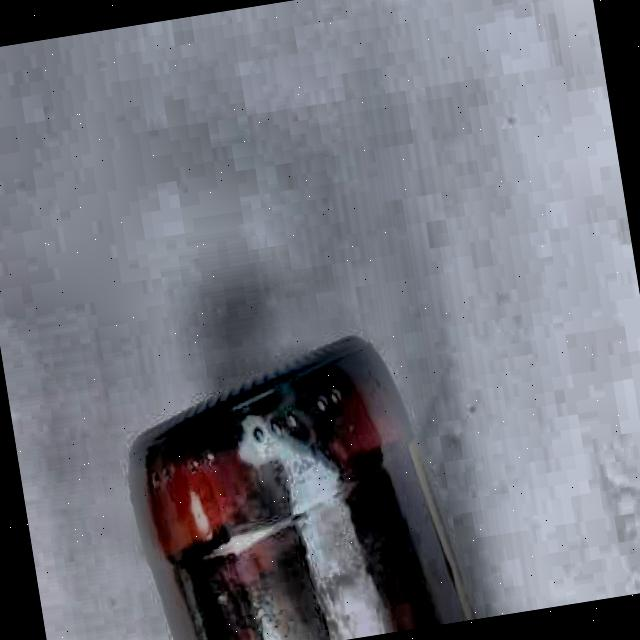glass: (109, 317, 469, 640)
